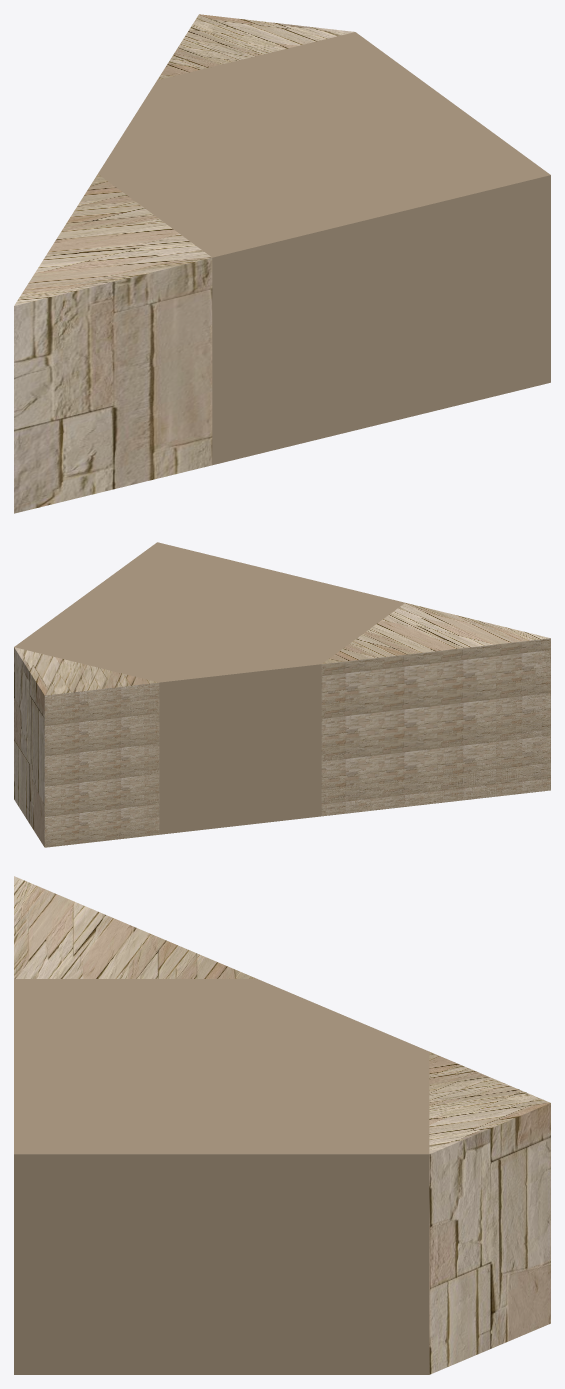
Rendered from basement.fbx.
3 views of the same model, one above another, from view 1: azimuth 30°, elevation 25°; view 2: azimuth 150°, elevation 25°; view 3: azimuth 270°, elevation 25° (orthographic). The views are drawn at different scales.
Visible parts, largest first — view 1: room1, room4, room2; view 2: room1, room4, room2; view 3: room1, room2, room4.
Part boxes in pixels (bbox=[...]): room1: bbox=[98, 32, 550, 465]; room4: bbox=[14, 174, 212, 513]; room2: bbox=[157, 14, 354, 80]; room1: bbox=[14, 542, 404, 834]; room4: bbox=[321, 603, 550, 816]; room2: bbox=[14, 647, 159, 847]; room1: bbox=[14, 979, 429, 1374]; room2: bbox=[429, 1051, 550, 1374]; room4: bbox=[14, 876, 256, 978].
Bounding box in the file's own units: 1624 × 600 × 1324.
4 materials, 2 textured.
